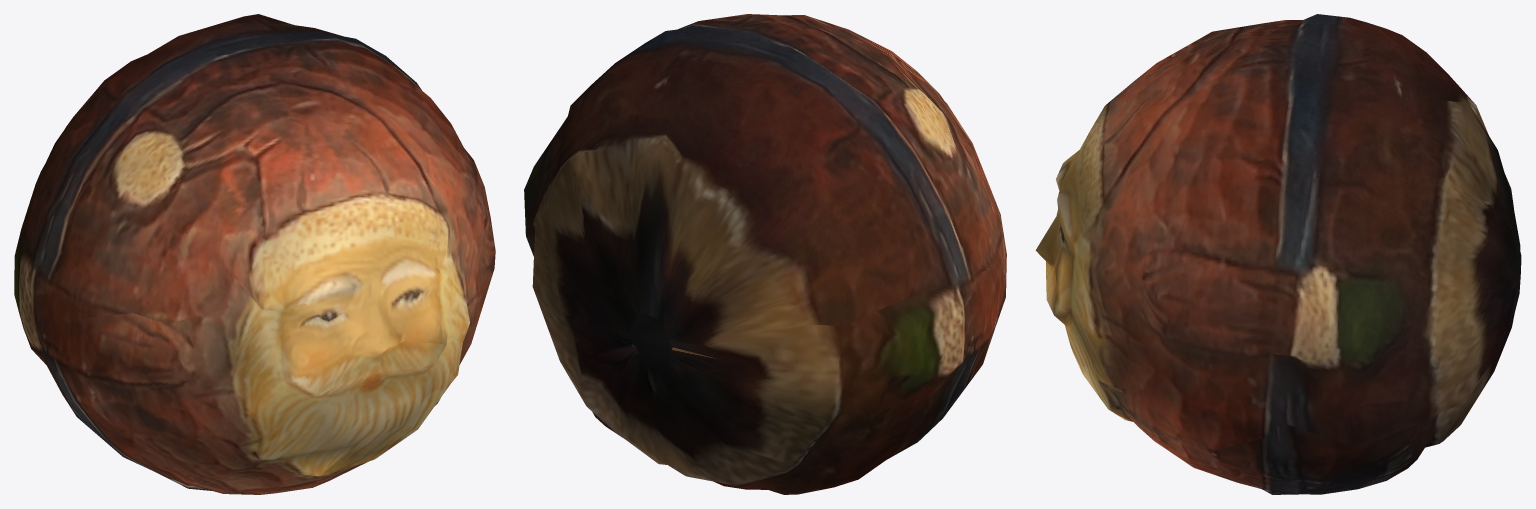
Rendered from santaball.glb.
The picture shows the model from 3 angles, left to right: view 1: azimuth 30°, elevation 25°; view 2: azimuth 150°, elevation 25°; view 3: azimuth 270°, elevation 25°; orthographic projection.
Visible parts, largest first — view 1: santaball; view 2: santaball; view 3: santaball.
Boxes of the visible parts, x1,y1,x2,y2 form: santaball: (14, 14, 495, 494); santaball: (524, 14, 1006, 494); santaball: (1035, 14, 1521, 494).
Size of the model in its own units: 1.06 by 1.03 by 1.04.
1 material, 1 textured.
